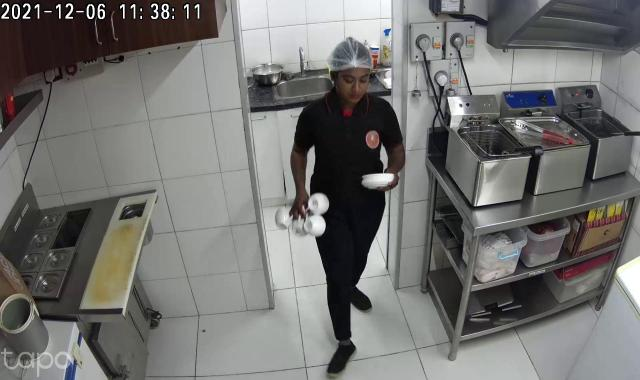hairnet: (329, 36, 376, 75)
